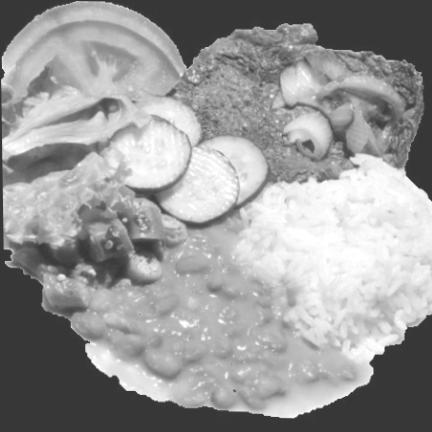beans: (73, 216, 361, 414)
cucumber: (108, 96, 268, 224)
meat: (173, 24, 422, 181)
rice: (238, 155, 432, 360)
salad: (1, 84, 150, 249)
tomato: (3, 1, 186, 101)
